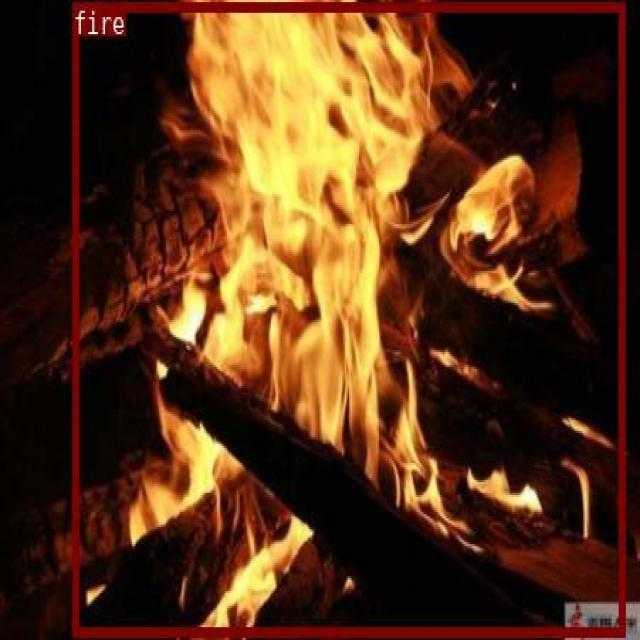fire: (71, 2, 623, 635)
